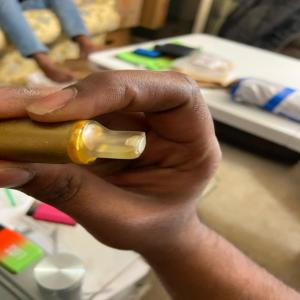Golden-E-Ciggirate: (0, 116, 149, 176)
